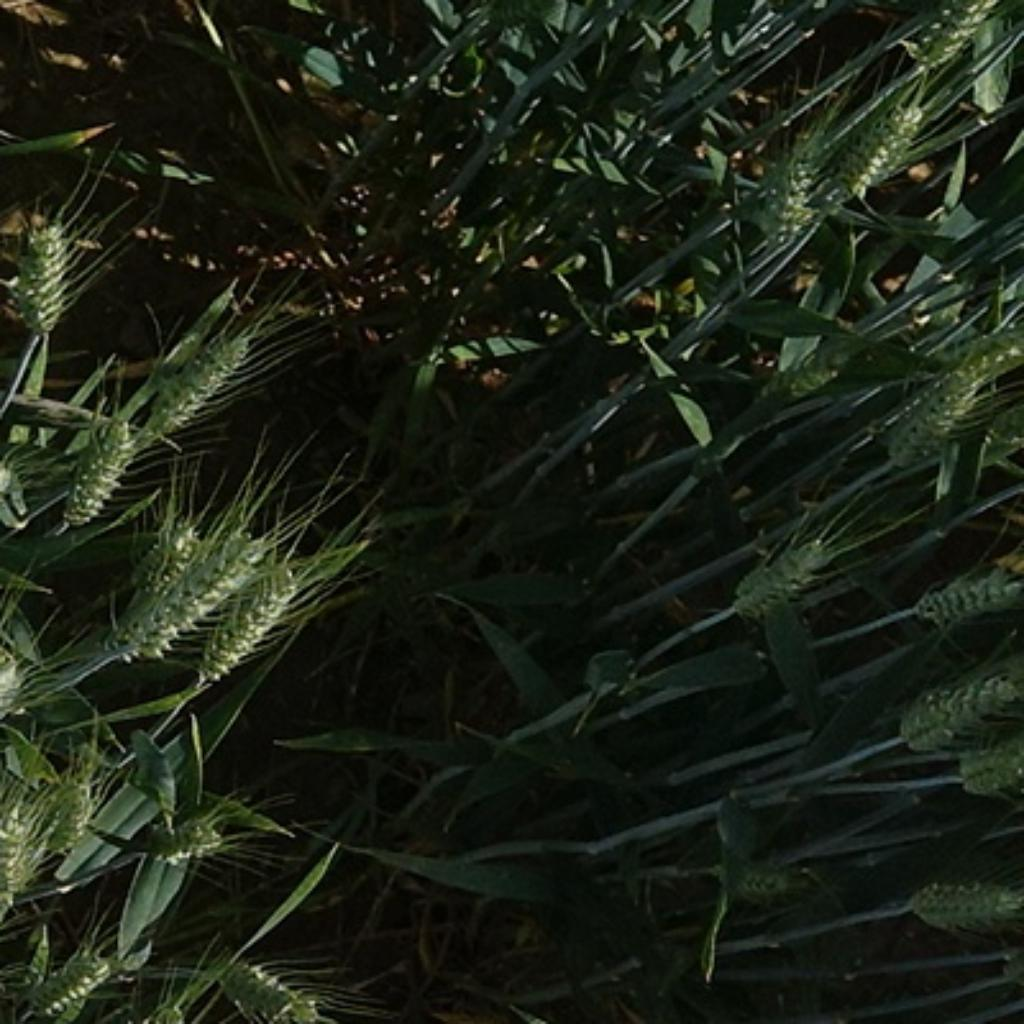0-0: (104, 535, 284, 673), (783, 79, 936, 212), (125, 304, 261, 442), (202, 540, 327, 680), (878, 350, 985, 465), (721, 524, 842, 622), (202, 939, 335, 1024), (729, 350, 867, 427), (0, 207, 81, 337), (729, 130, 819, 243), (898, 663, 1024, 742), (56, 407, 140, 524), (20, 931, 125, 1021), (917, 0, 1007, 101), (911, 852, 1018, 936), (138, 788, 253, 865), (903, 563, 1024, 624), (33, 760, 104, 855), (120, 514, 204, 593), (935, 733, 1023, 806), (0, 780, 43, 903), (718, 850, 812, 905)
